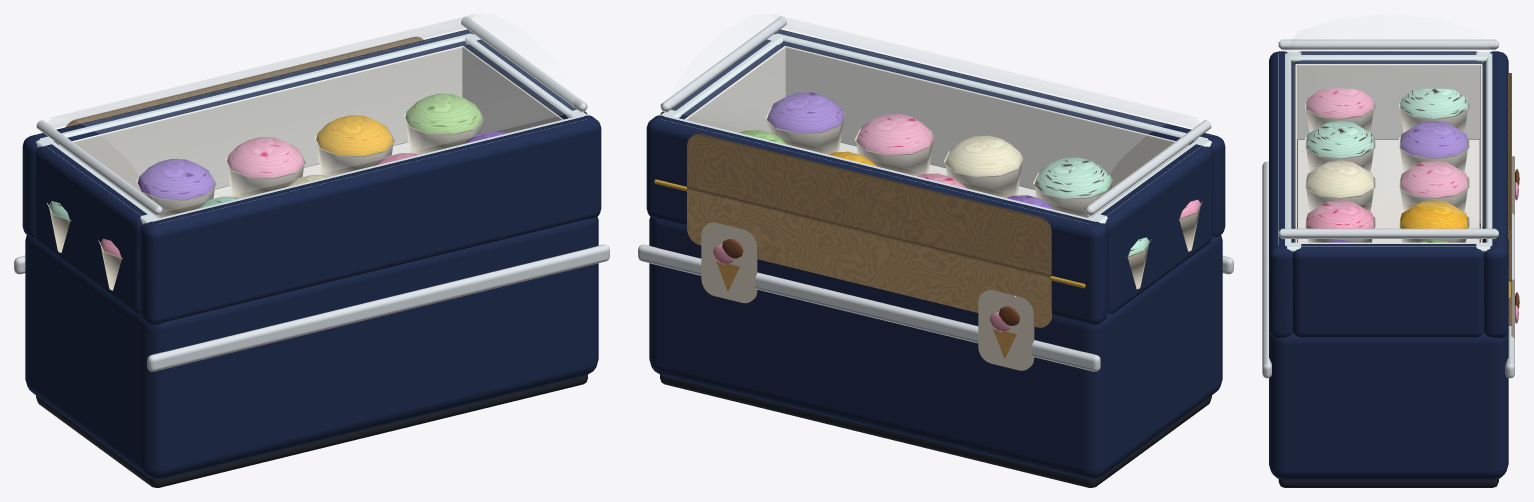
Rendered from icecream_T2.fbx.
3 renders of one model, left to right at view 1: azimuth 30°, elevation 25°; view 2: azimuth 150°, elevation 25°; view 3: azimuth 270°, elevation 25°, orthographic. The views are drawn at different scales.
Visible parts, largest first — view 1: Body, Anim Fill 0, Anim Fill 1, Anim Fill 2, Anim Fill 3; view 2: Body, Anim Fill 0, Anim Fill 1, Anim Fill 2, Anim Fill 3; view 3: Body, Anim Fill 1, Anim Fill 2, Anim Fill 3, Anim Fill 0.
Boxes of the visible parts, <box> form: Body: <box>14,14,609,487</box>; Anim Fill 0: <box>314,93,507,176</box>; Anim Fill 1: <box>225,137,328,198</box>; Anim Fill 2: <box>136,159,239,217</box>; Anim Fill 3: <box>47,201,122,290</box>; Body: <box>638,14,1233,487</box>; Anim Fill 0: <box>739,92,934,176</box>; Anim Fill 1: <box>917,135,1024,197</box>; Anim Fill 2: <box>1007,157,1113,217</box>; Anim Fill 3: <box>1127,199,1202,289</box>; Body: <box>1262,14,1519,487</box>; Anim Fill 1: <box>1305,160,1469,212</box>; Anim Fill 2: <box>1305,120,1469,172</box>; Anim Fill 3: <box>1305,88,1469,132</box>; Anim Fill 0: <box>1305,200,1469,242</box>.
Bounding box in the file's own units: 1.51 × 0.97 × 0.794.
